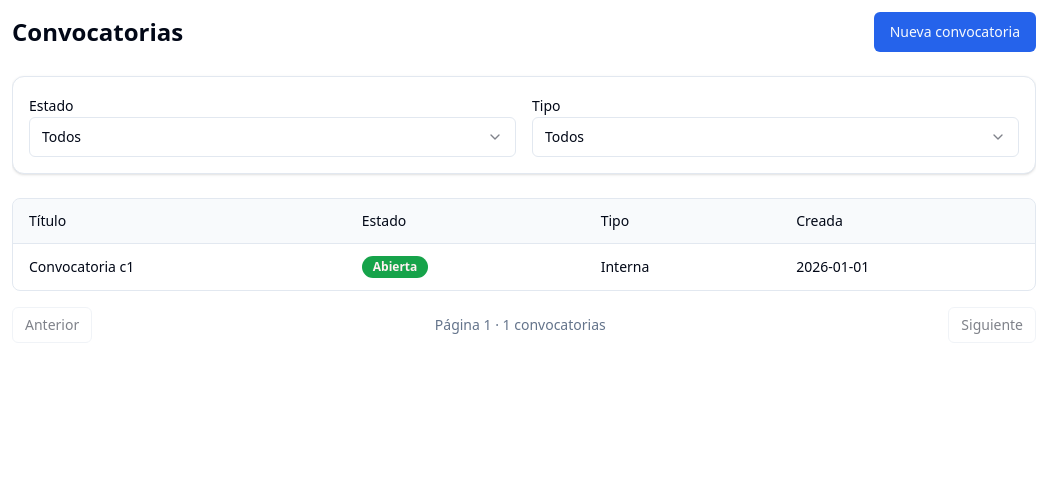
Test: CallList — loading, error and filtered empty states › shows the filtered empty state when filters yield no results
Expected: the link "Convocatoria c1" is shown, x1=29 y1=257 x2=134 y2=276
Click the dropdown named "estado". click: (62, 136)
box: x1=29 y1=117 x2=516 y2=157
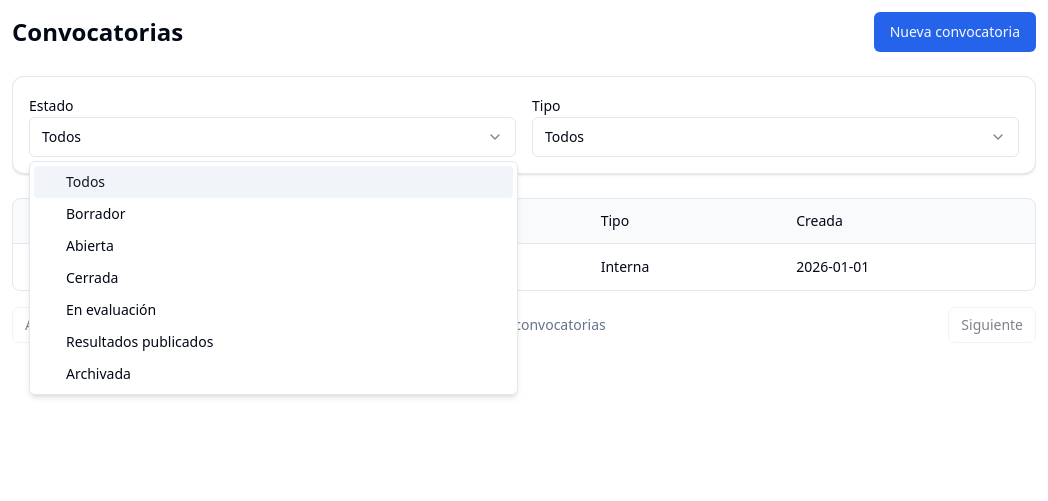
Click the option "Abierta". click: (90, 246)
box: x1=66 y1=236 x2=114 y2=255
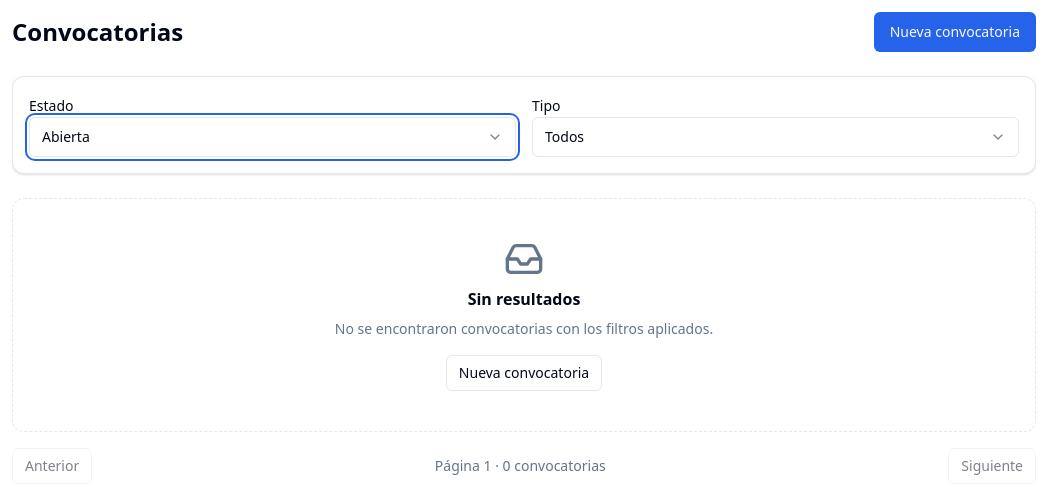
Expected: the text "Sin resultados" is shown, x1=468 y1=287 x2=580 y2=311
Expected: the text "No se encontraron convocatorias con los filtros aplicados." is shown, x1=335 y1=319 x2=713 y2=339
